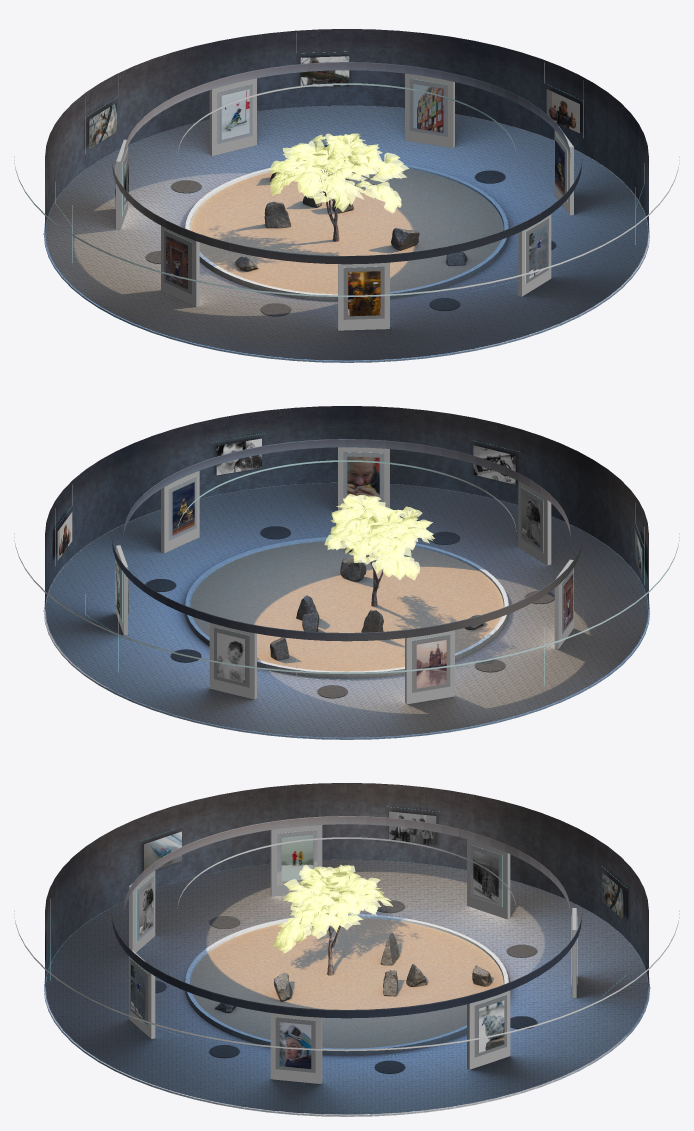
3 renders of one model, top to bottom at view 1: azimuth 30°, elevation 25°; view 2: azimuth 150°, elevation 25°; view 3: azimuth 270°, elevation 25°, orthographic.
Visible parts, largest first — view 1: Floor, Wall01, Soil, Wall02, Top, Leavs, Glass, Circle, Stones, Points, a1, a7 (+6 smaller); view 2: Floor, Wall01, Soil, Top, Wall02, Leavs, Glass, Circle, Points, Stones, a14, a9 (+5 smaller); view 3: Floor, Wall01, Soil, Top, Wall02, Leavs, Glass, Circle, Points, Stones, a3, a16 (+7 smaller).
Boxes of the visible parts, bbox=[...] form: Floor: bbox=[43, 105, 649, 362]; Wall01: bbox=[45, 29, 648, 231]; Soil: bbox=[190, 168, 503, 294]; Wall02: bbox=[116, 73, 573, 330]; Top: bbox=[14, 62, 679, 297]; Leavs: bbox=[269, 133, 408, 213]; Glass: bbox=[86, 52, 583, 319]; Circle: bbox=[185, 161, 508, 301]; Stones: bbox=[235, 172, 467, 271]; Points: bbox=[146, 144, 555, 316]; a1: bbox=[348, 271, 380, 316]; a7: bbox=[413, 84, 443, 132]; Floor: bbox=[43, 482, 649, 739]; Wall01: bbox=[45, 406, 648, 608]; Soil: bbox=[190, 541, 503, 671]; Top: bbox=[14, 439, 679, 674]; Wall02: bbox=[116, 447, 573, 704]; Leavs: bbox=[324, 493, 434, 580]; Glass: bbox=[55, 434, 643, 692]; Circle: bbox=[185, 537, 508, 678]; Points: bbox=[146, 526, 554, 698]; Stones: bbox=[270, 546, 483, 660]; a14: bbox=[416, 640, 446, 688]; a9: bbox=[347, 456, 379, 501]; Floor: bbox=[44, 859, 650, 1116]; Wall01: bbox=[45, 783, 648, 985]; Soil: bbox=[190, 917, 503, 1048]; Top: bbox=[14, 816, 679, 1051]; Wall02: bbox=[129, 825, 576, 1083]; Leavs: bbox=[272, 865, 392, 953]; Glass: bbox=[130, 807, 626, 1072]; Circle: bbox=[185, 913, 508, 1055]; Points: bbox=[155, 900, 536, 1073]; Stones: bbox=[215, 926, 491, 1012]; a3: bbox=[279, 1022, 311, 1068]; a16: bbox=[281, 834, 313, 881].
Size of the model in its own units: 30762 by 5500 by 30762.
